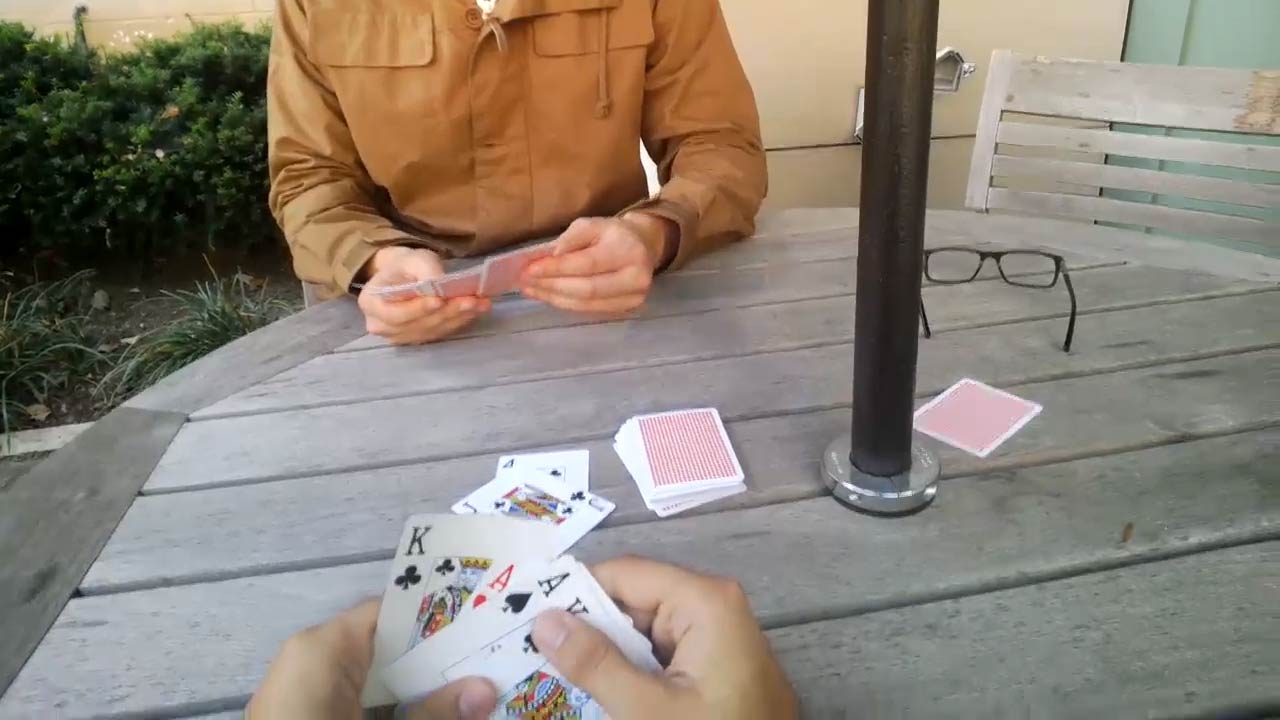hand: (534, 565, 815, 718), (239, 591, 494, 718), (357, 246, 492, 344), (519, 217, 655, 313)
